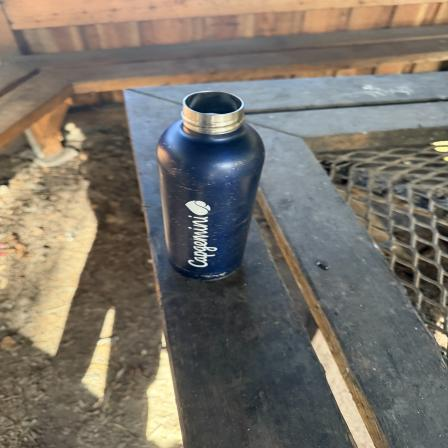blue_bottle: (160, 89, 265, 282)
